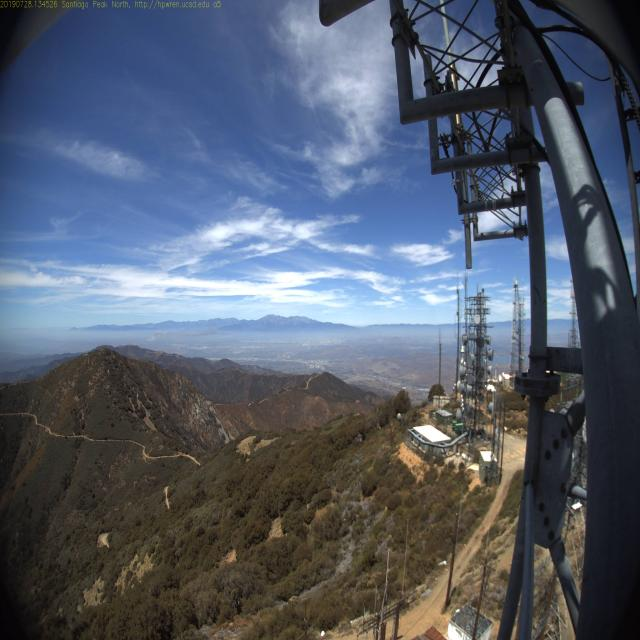smoke: (143, 321, 167, 348)
